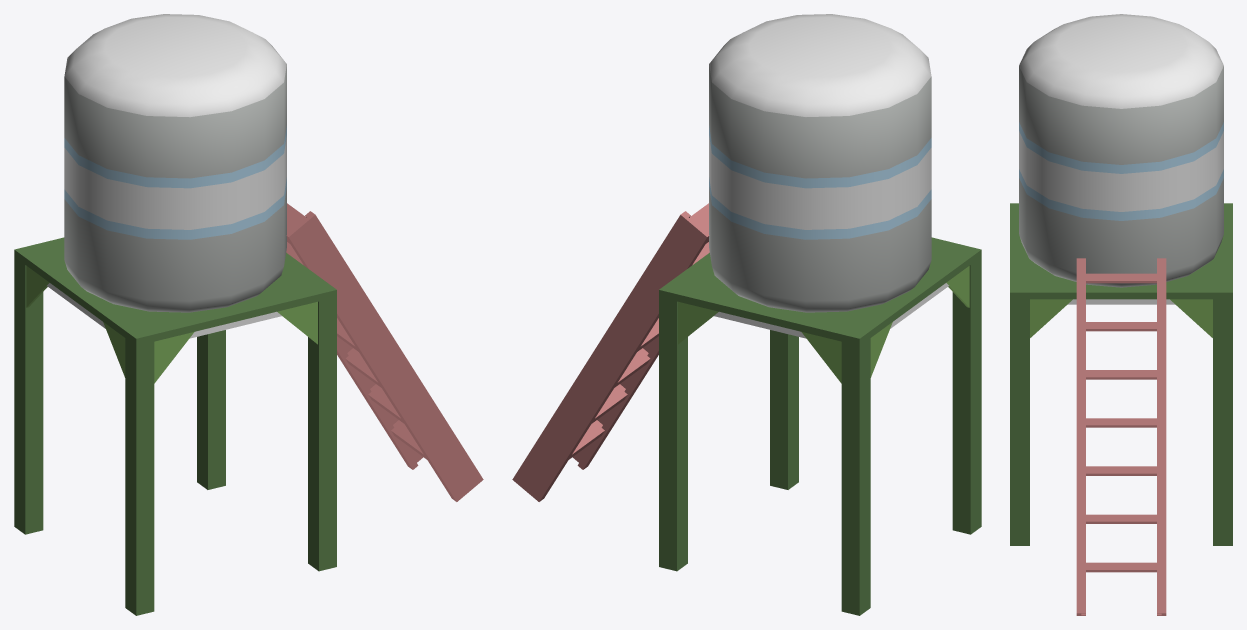
The model's file is bilun - water tank.fbx.
3 views of the same model, side by side, from view 1: azimuth 30°, elevation 25°; view 2: azimuth 150°, elevation 25°; view 3: azimuth 270°, elevation 25° (orthographic). The views are drawn at different scales.
Parts seen in each view (by area): view 1: Cylinder, Cube, Cube.002, Plane, Cube.001; view 2: Cylinder, Cube, Cube.002, Plane, Cube.001; view 3: Cylinder, Cube, Cube.002, Plane, Cube.001.
Boxes of the visible parts, x1=… form: Cylinder: x1=64, y1=14, x2=286, y2=312; Cube: x1=14, y1=237, x2=336, y2=615; Cube.002: x1=286, y1=203, x2=483, y2=501; Plane: x1=26, y1=266, x2=317, y2=383; Cube.001: x1=47, y1=283, x2=281, y2=338; Cylinder: x1=709, y1=14, x2=931, y2=312; Cube: x1=659, y1=237, x2=981, y2=615; Cube.002: x1=512, y1=203, x2=709, y2=501; Plane: x1=678, y1=266, x2=969, y2=383; Cube.001: x1=714, y1=283, x2=948, y2=338; Cylinder: x1=1019, y1=14, x2=1223, y2=287; Cube: x1=1010, y1=203, x2=1232, y2=545; Cube.002: x1=1076, y1=258, x2=1166, y2=615; Plane: x1=1030, y1=299, x2=1212, y2=337; Cube.001: x1=1068, y1=299, x2=1174, y2=304.
Size of the model in its own units: 368 by 457 by 202.
